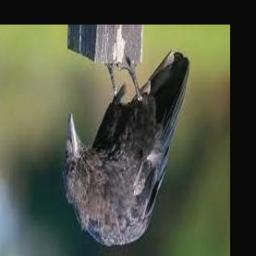Crow: (64, 49, 190, 247)
